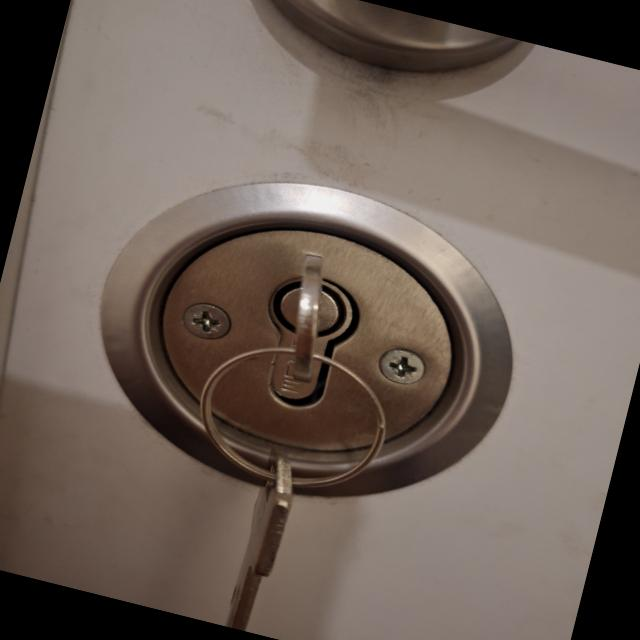Phillips: (176, 298, 232, 342), (374, 347, 428, 391)
